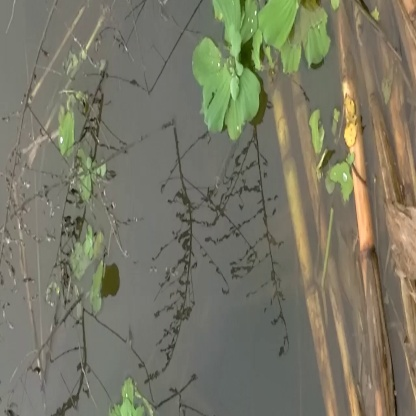branch: (271, 103, 361, 409)
